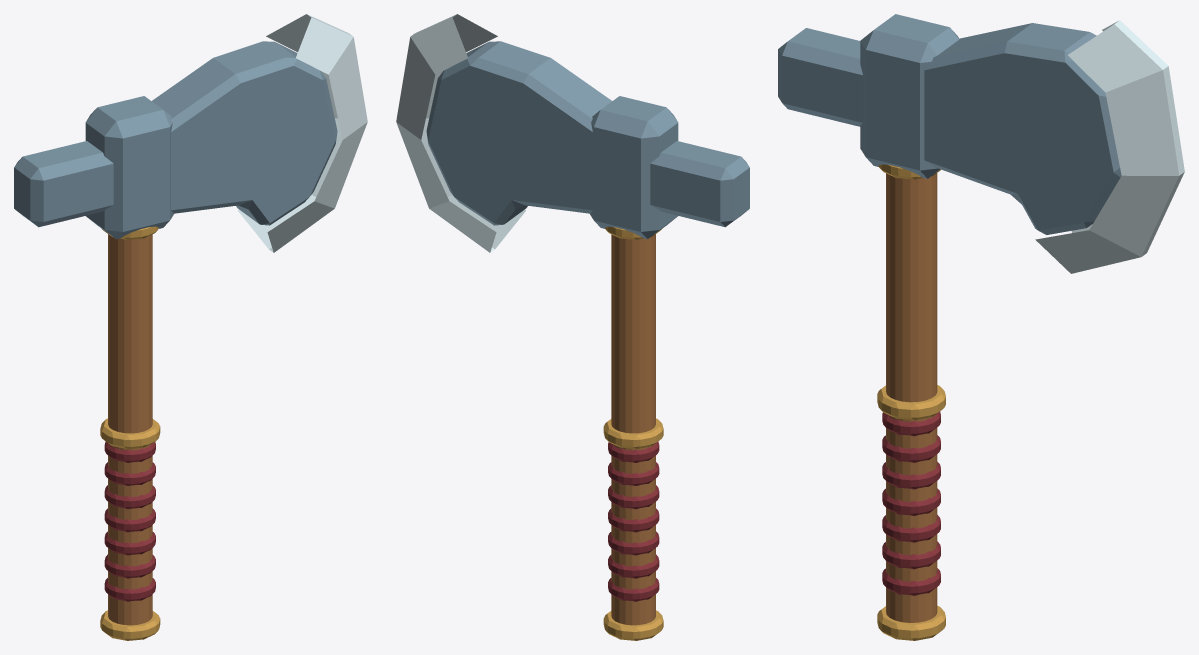
File: machado_lenhador.glb
The picture shows the model from 3 angles, left to right: view 1: azimuth 30°, elevation 25°; view 2: azimuth 150°, elevation 25°; view 3: azimuth 330°, elevation 25°; orthographic projection. The views are drawn at different scales.
Visible parts, largest first — view 1: Cabeça barba, Cabo facetado, Fio claro, Olhal, Contrapeso, Anel latão, Anel latão.001, Faixa couro.002, Faixa couro.003, Faixa couro.001, Faixa couro.005, Faixa couro.004 (+2 smaller); view 2: Cabeça barba, Cabo facetado, Fio claro, Olhal, Contrapeso, Anel latão, Anel latão.001, Faixa couro.002, Faixa couro.003, Faixa couro.001, Faixa couro.005, Faixa couro.004 (+2 smaller); view 3: Cabeça barba, Fio claro, Cabo facetado, Olhal, Contrapeso, Anel latão, Anel latão.001, Faixa couro.002, Faixa couro, Faixa couro.005, Faixa couro.003, Faixa couro.001 (+2 smaller).
Part boxes in pixels (bbox=[...]): Cabeça barba: bbox=[152, 41, 337, 225]; Cabo facetado: bbox=[108, 234, 152, 625]; Fio claro: bbox=[238, 14, 367, 252]; Olhal: bbox=[85, 96, 173, 239]; Contrapeso: bbox=[14, 141, 113, 227]; Anel latão: bbox=[100, 610, 160, 640]; Anel latão.001: bbox=[100, 418, 160, 448]; Faixa couro.002: bbox=[104, 531, 155, 555]; Faixa couro.003: bbox=[104, 508, 155, 532]; Faixa couro.001: bbox=[104, 554, 155, 578]; Faixa couro.005: bbox=[104, 462, 155, 485]; Faixa couro.004: bbox=[104, 485, 155, 509]; Cabeça barba: bbox=[426, 41, 611, 225]; Cabo facetado: bbox=[611, 234, 655, 625]; Fio claro: bbox=[396, 14, 525, 252]; Olhal: bbox=[590, 96, 678, 239]; Contrapeso: bbox=[650, 141, 749, 227]; Anel latão: bbox=[603, 610, 663, 640]; Anel latão.001: bbox=[603, 418, 663, 448]; Faixa couro.002: bbox=[608, 531, 659, 555]; Faixa couro.003: bbox=[608, 508, 659, 532]; Faixa couro.001: bbox=[608, 554, 659, 578]; Faixa couro.005: bbox=[608, 462, 659, 485]; Faixa couro.004: bbox=[608, 485, 659, 509]; Cabeça barba: bbox=[924, 23, 1121, 234]; Fio claro: bbox=[1035, 20, 1184, 273]; Cabo facetado: bbox=[886, 173, 937, 622]; Olhal: bbox=[860, 14, 958, 178]; Contrapeso: bbox=[778, 28, 862, 126]; Anel latão: bbox=[877, 605, 945, 640]; Anel latão.001: bbox=[877, 385, 945, 420]; Faixa couro.002: bbox=[882, 515, 940, 542]; Faixa couro: bbox=[882, 568, 940, 595]; Faixa couro.005: bbox=[882, 435, 940, 462]; Faixa couro.003: bbox=[882, 488, 940, 515]; Faixa couro.001: bbox=[882, 541, 940, 569].
Bounding box in the file's own units: 0.73 × 1.16 × 0.12.
